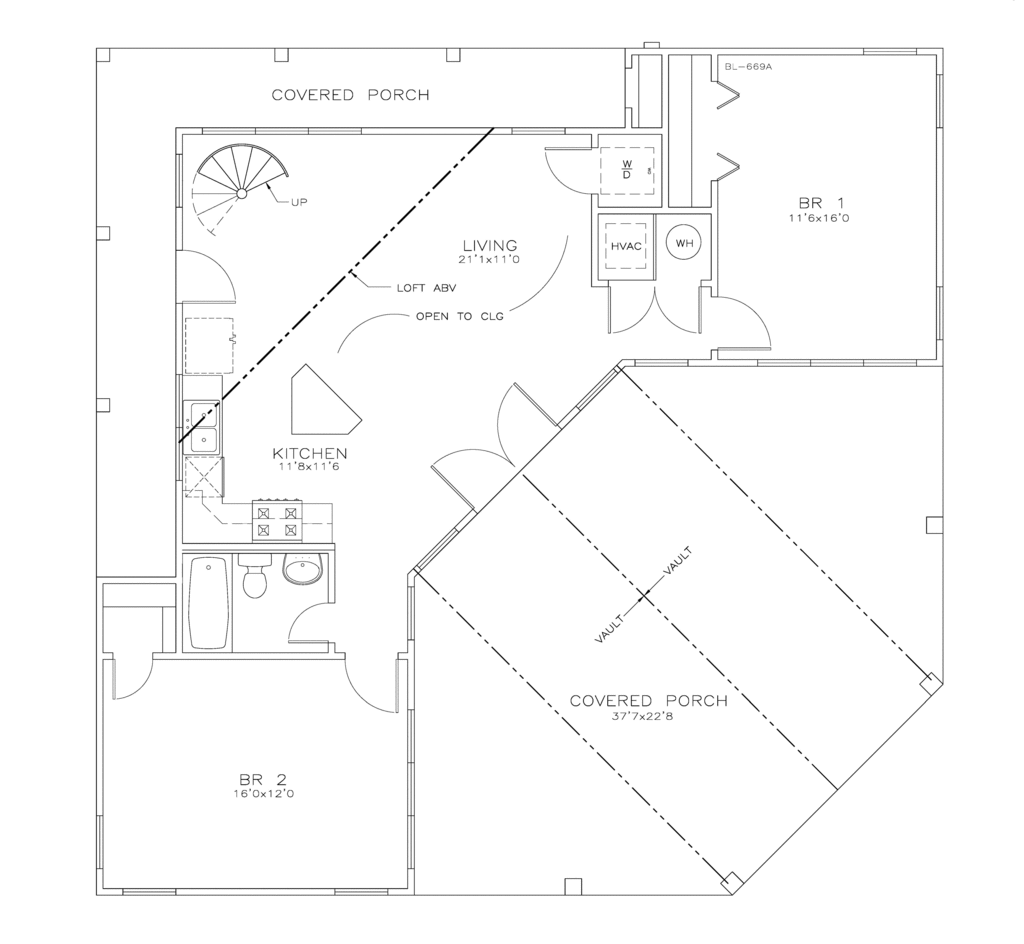door: (431, 382, 560, 515), (605, 282, 705, 334), (177, 245, 243, 305), (708, 293, 777, 350), (346, 654, 400, 717), (540, 143, 602, 197), (108, 651, 160, 705), (277, 598, 336, 645)
large_sink: (233, 550, 276, 602)
small_sink: (280, 550, 327, 589)
stairs: (188, 142, 308, 239)
tub: (180, 548, 238, 654)
twin_sink: (183, 397, 223, 455)
windows: (425, 380, 562, 512), (754, 355, 921, 373), (932, 69, 954, 136), (933, 279, 949, 353)
